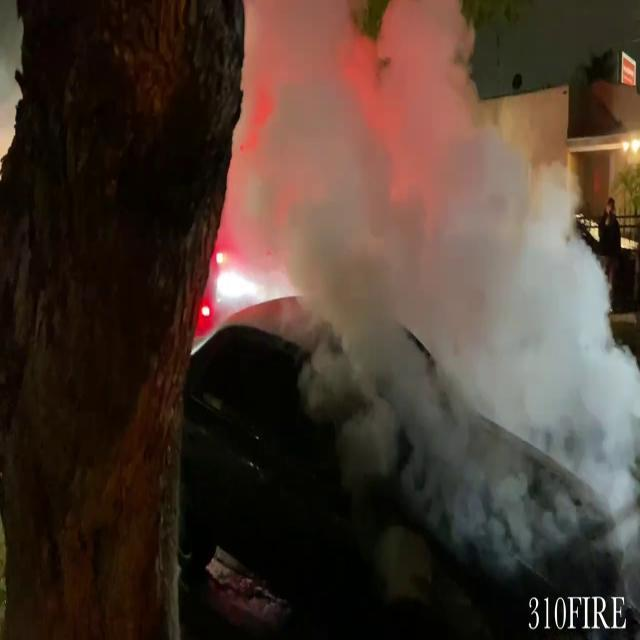Smoke: (240, 0, 640, 587)
